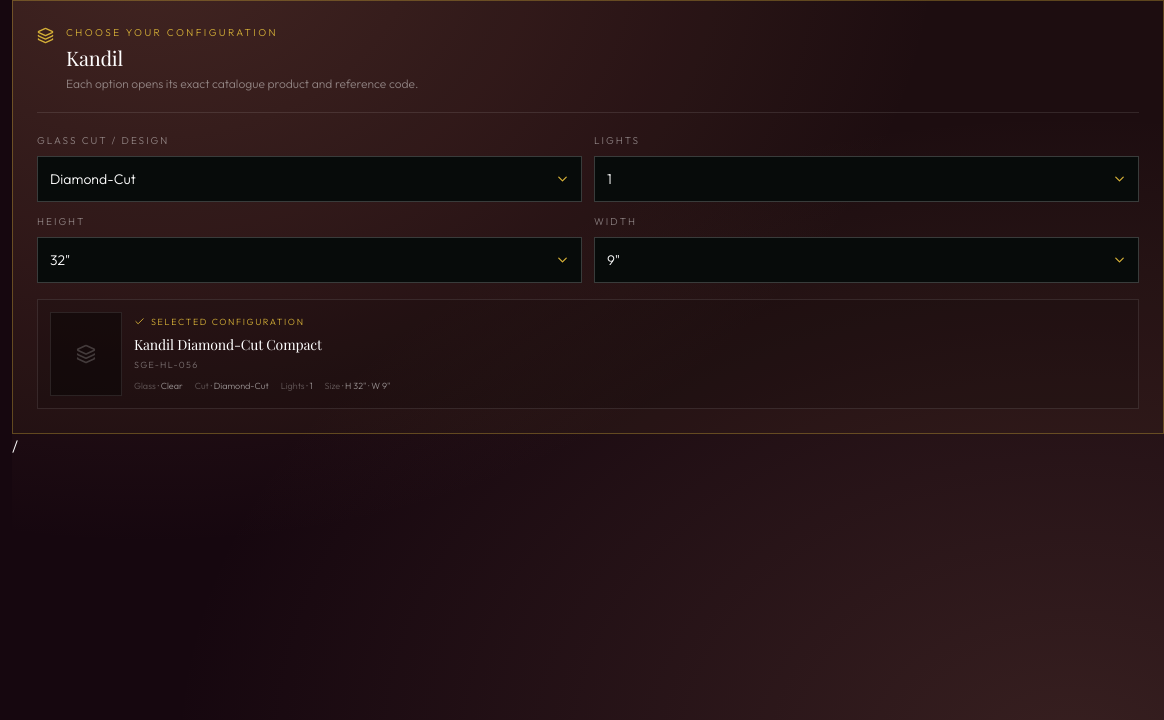
Test: preserves glass cut before lower-priority attributes when changing width
Expected: the dropdown labelled "Glass cut / design" shows "Diamond-Cut", [37, 156, 582, 202]
Select "12\"" in the dropdown labelled "Width" at (866, 260), box [594, 237, 1139, 283]
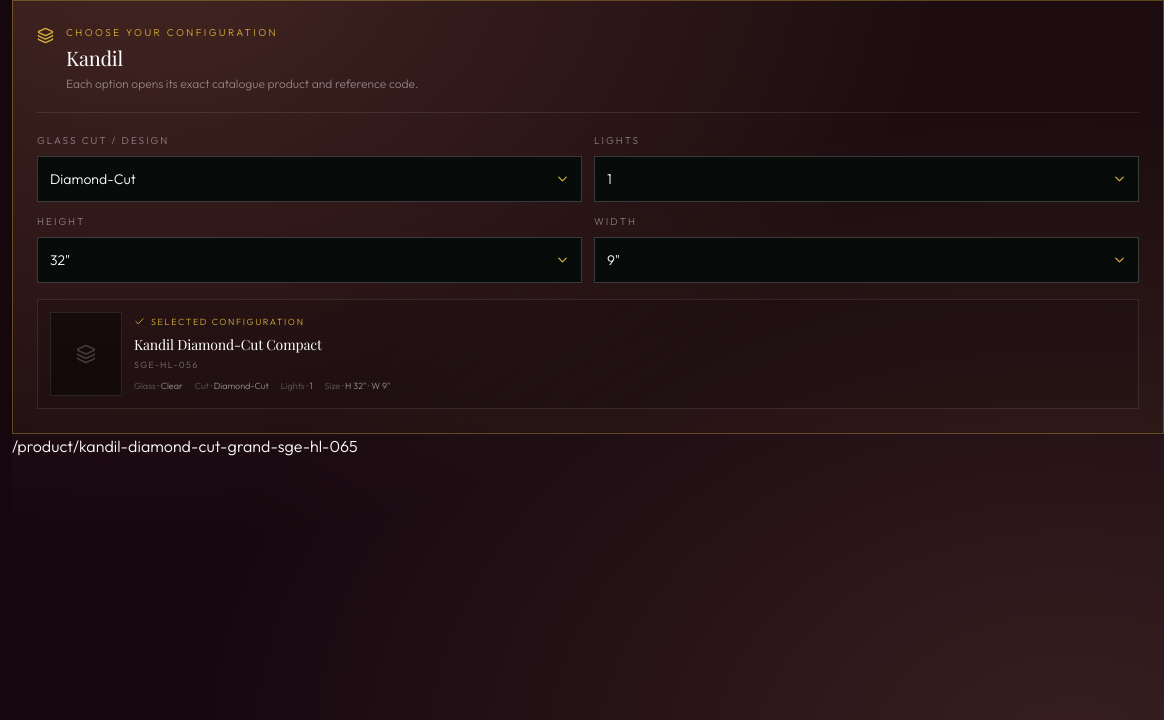
Expected: the text with test id "location" shows "sge-hl-065", [12, 436, 358, 456]
